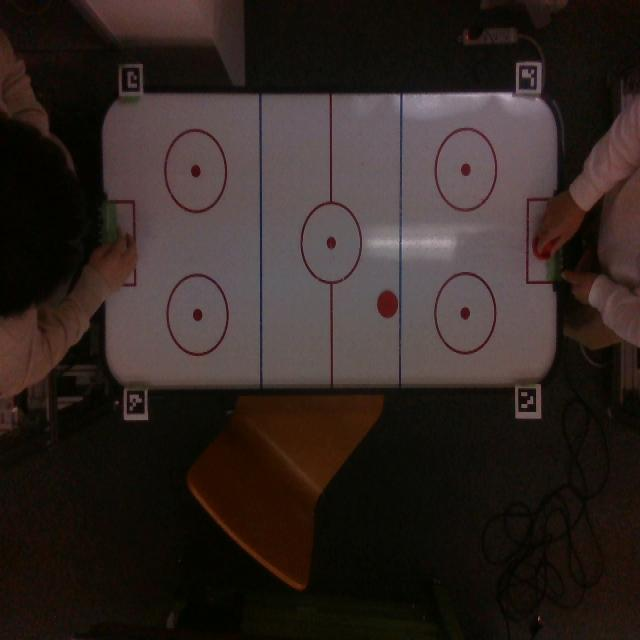puck: (377, 290, 398, 318)
